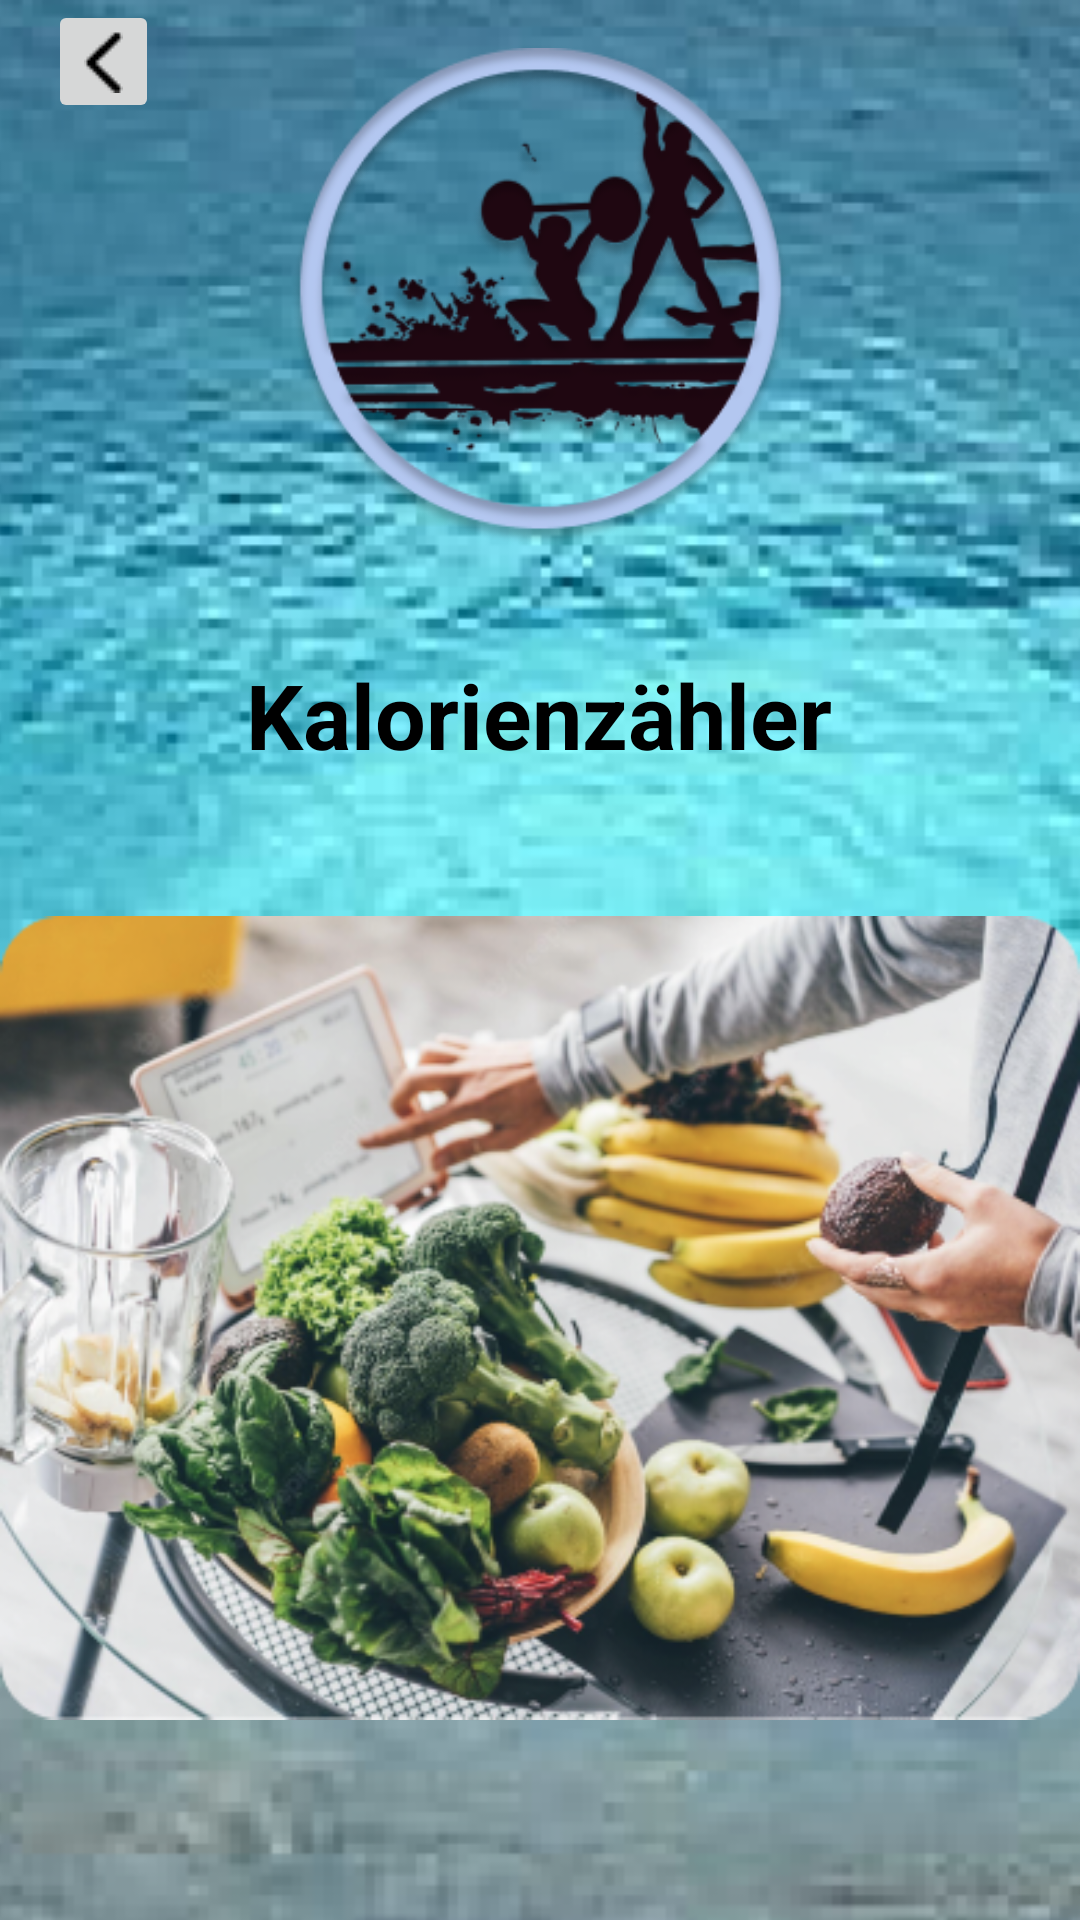

Icons on this 1080×1920 Android screen, each with its box as (x1=x1, y1=y1, x2=x2, y2=y2):
arrow left: (x1=60, y1=18, x2=147, y2=105)
